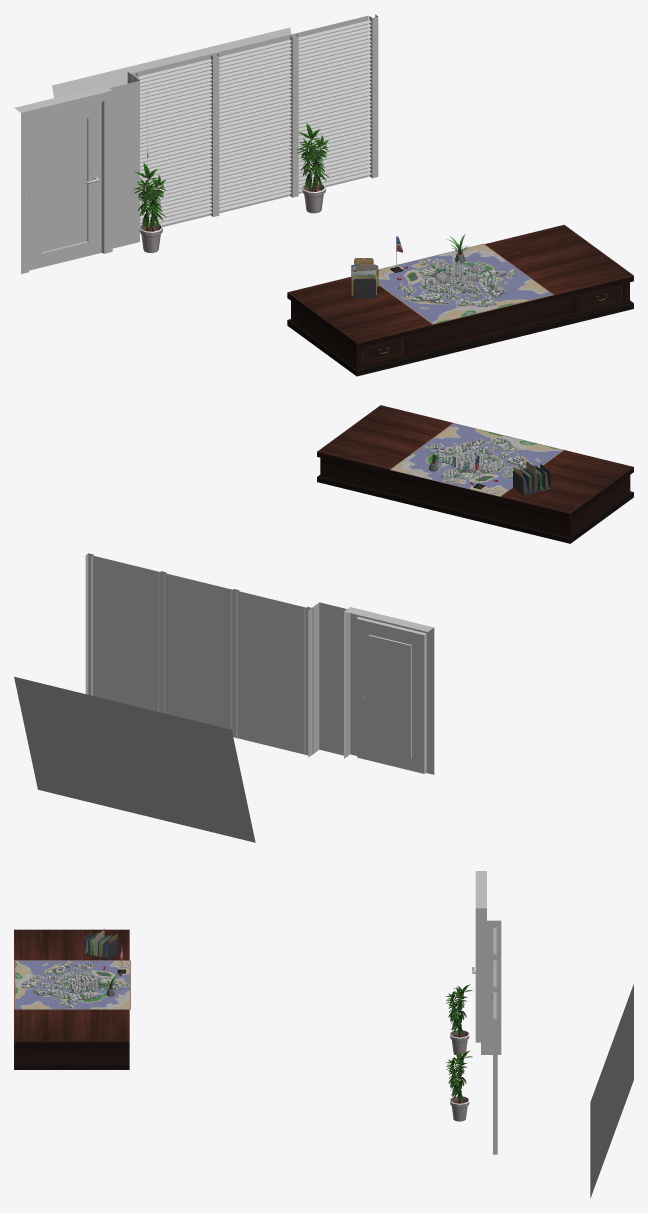
File: ChengShiDiTu_03.FBX
3 renders of one model, top to bottom at view 1: azimuth 30°, elevation 25°; view 2: azimuth 150°, elevation 25°; view 3: azimuth 270°, elevation 25°, orthographic. The views are drawn at different scales.
Visible parts, largest first — view 1: 1, DiTu_zhuozi_01, 3, DiTu_dimian_02, 2, XinLiYiShengGongZuoShi_01_zhiwu_01, XinLiYiShengGongZuoShi_01_zhiwu_002, DiTu_shujia_01; view 2: 3, 2, 1, DiTu_zhuozi_01, DiTu_dimian_02, DiTu_shujia_01; view 3: DiTu_zhuozi_01, DiTu_dimian_02, 1, 2, XinLiYiShengGongZuoShi_01_zhiwu_002, XinLiYiShengGongZuoShi_01_zhiwu_01, DiTu_shujia_01.
Part boxes in pixels (x1=…): 1: x1=14, y1=14, x2=378, y2=273; DiTu_zhuozi_01: x1=287, y1=224, x2=633, y2=376; 3: x1=131, y1=15, x2=368, y2=226; DiTu_dimian_02: x1=379, y1=243, x2=553, y2=324; 2: x1=52, y1=27, x2=291, y2=97; XinLiYiShengGongZuoShi_01_zhiwu_01: x1=134, y1=163, x2=166, y2=252; XinLiYiShengGongZuoShi_01_zhiwu_002: x1=296, y1=123, x2=329, y2=213; DiTu_shujia_01: x1=351, y1=258, x2=378, y2=297; 3: x1=93, y1=555, x2=310, y2=755; 2: x1=14, y1=676, x2=255, y2=842; 1: x1=85, y1=553, x2=434, y2=774; DiTu_zhuozi_01: x1=317, y1=405, x2=633, y2=543; DiTu_dimian_02: x1=390, y1=423, x2=563, y2=496; DiTu_shujia_01: x1=513, y1=461, x2=550, y2=495; DiTu_zhuozi_01: x1=14, y1=929, x2=129, y2=1069; DiTu_dimian_02: x1=14, y1=960, x2=130, y2=1009; 1: x1=472, y1=871, x2=501, y2=1154; 2: x1=590, y1=984, x2=633, y2=1198; XinLiYiShengGongZuoShi_01_zhiwu_002: x1=445, y1=1050, x2=472, y2=1121; XinLiYiShengGongZuoShi_01_zhiwu_01: x1=446, y1=984, x2=472, y2=1054; DiTu_shujia_01: x1=83, y1=928, x2=117, y2=960.
Bounding box in the file's own units: 2235 × 1253 × 3918.
